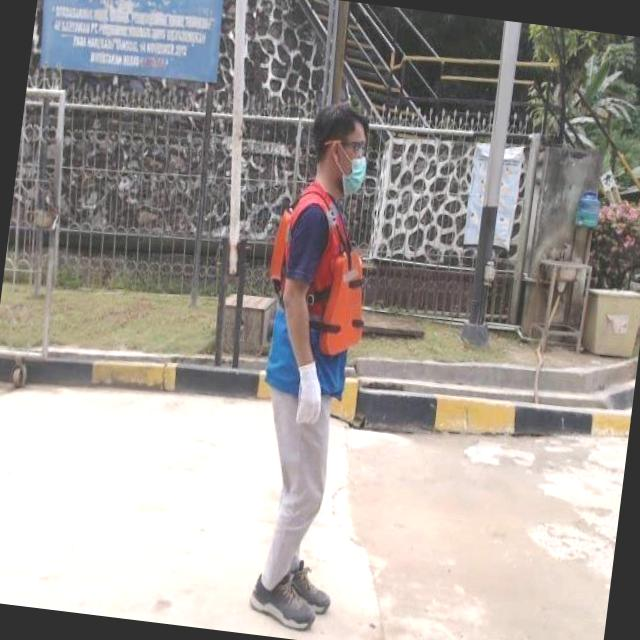vest: (258, 175, 380, 402)
